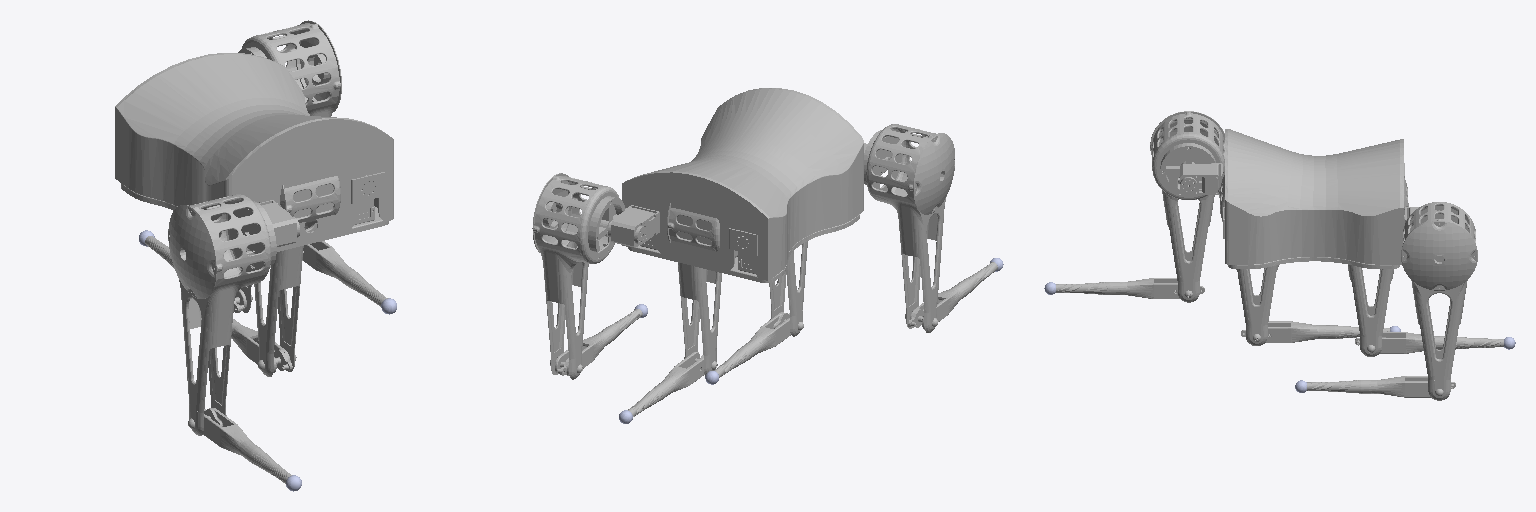
URDF robot description (Phantom):
<?xml version="1.0" encoding="utf-8"?>
<!-- This URDF was automatically created by SolidWorks to URDF Exporter! Originally created by [author] ([email redacted]) 
     Commit Version: 1.5.1-0-g916b5db  Build Version: 1.5.7152.31018
     For more information, please see http://wiki.ros.org/sw_urdf_exporter -->
<robot
  name="Phantom">
  <link
    name="base_link">
    <inertial>
      <origin
        xyz="0 0.024688 0"
        rpy="0 0 0" />
      <mass
        value="0.50654" />
      <inertia
        ixx="0.0017719"
        ixy="1.6105E-07"
        ixz="-8.064E-07"
        iyy="0.0025693"
        iyz="-4.4001E-05"
        izz="0.0011851" />
    </inertial>
    <visual>
      <origin
        xyz="0 0 0"
        rpy="0 0 0" />
      <geometry>
        <mesh
          filename="package://Phantom/meshes/base_link.STL" />
      </geometry>
      <material
        name="">
        <color
          rgba="0.75294 0.75294 0.75294 1" />
      </material>
    </visual>
    <collision>
      <origin
        xyz="0 0 0"
        rpy="0 0 0" />
      <geometry>
        <mesh
          filename="package://Phantom/meshes/base_link.STL" />
      </geometry>
    </collision>
  </link>
  <link
    name="FL_Motor_2">
    <inertial>
      <origin
        xyz="9.012E-07 0.025811 0.00021934"
        rpy="0 0 0" />
      <mass
        value="0.038306" />
      <inertia
        ixx="8.8892E-06"
        ixy="-8.9901E-11"
        ixz="2.9471E-11"
        iyy="5.0029E-06"
        iyz="-6.1827E-09"
        izz="7.6904E-06" />
    </inertial>
    <visual>
      <origin
        xyz="0 0 0"
        rpy="0 0 0" />
      <geometry>
        <mesh
          filename="package://Phantom/meshes/FL_Motor_2.STL" />
      </geometry>
      <material
        name="">
        <color
          rgba="0.75294 0.75294 0.75294 1" />
      </material>
    </visual>
    <collision>
      <origin
        xyz="0 0 0"
        rpy="0 0 0" />
      <geometry>
        <mesh
          filename="package://Phantom/meshes/FL_Motor_2.STL" />
      </geometry>
    </collision>
  </link>
  <joint
    name="FL_Motor_1"
    type="revolute">
    <origin
      xyz="0.06 -0.106 0.0396"
      rpy="0 -1.5708 0" />
    <parent
      link="base_link" />
    <child
      link="FL_Motor_2" />
    <axis
      xyz="0 1 0" />
    <limit
      lower="-1.57"
      upper="1.57"
      effort="1.6"
      velocity="6.55" />
  </joint>
  <link
    name="FL_Upper_Leg">
    <inertial>
      <origin
        xyz="0.0524807185071959 -0.0149043297355802 0.0456863302589959"
        rpy="0 0 0" />
      <mass
        value="0.109481468712912" />
      <inertia
        ixx="0.000298068457356141"
        ixy="4.60867940853905E-05"
        ixz="-3.85596458595883E-06"
        iyy="0.000125014667087998"
        iyz="7.78430032608335E-05"
        izz="0.000265806457751462" />
    </inertial>
    <visual>
      <origin
        xyz="0 0 0"
        rpy="0 0 0" />
      <geometry>
        <mesh
          filename="package://Phantom/meshes/FL_Upper_Leg.STL" />
      </geometry>
      <material
        name="">
        <color
          rgba="0.752941176470588 0.752941176470588 0.752941176470588 1" />
      </material>
    </visual>
    <collision>
      <origin
        xyz="0 0 0"
        rpy="0 0 0" />
      <geometry>
        <mesh
          filename="package://Phantom/meshes/FL_Upper_Leg.STL" />
      </geometry>
    </collision>
  </link>
  <joint
    name="FL_Motor_2"
    type="revolute">
    <origin
      xyz="0 0.0396 0"
      rpy="0.40064 -0.90551 -1.6929" />
    <parent
      link="FL_Motor_2" />
    <child
      link="FL_Upper_Leg" />
    <axis
      xyz="0.78674 0.24074 0.5684" />
    <limit
      lower="-1.57"
      upper="1.57"
      effort="1.6"
      velocity="6.55" />
  </joint>
  <link
    name="FL_Lower_Leg">
    <inertial>
      <origin
        xyz="0.0261394692100626 -0.0573467070566691 0.0104588260023856"
        rpy="0 0 0" />
      <mass
        value="0.0232960712336725" />
      <inertia
        ixx="1.52233611319829E-05"
        ixy="1.16167374959236E-06"
        ixz="-2.08623801817281E-07"
        iyy="1.7871148944761E-06"
        iyz="2.42971146104759E-06"
        izz="1.50217948778946E-05" />
    </inertial>
    <visual>
      <origin
        xyz="0 0 0"
        rpy="0 0 0" />
      <geometry>
        <mesh
          filename="package://Phantom/meshes/FL_Lower_Leg.STL" />
      </geometry>
      <material
        name="">
        <color
          rgba="0.752941176470588 0.752941176470588 0.752941176470588 1" />
      </material>
    </visual>
    <collision>
      <origin
        xyz="0 0 0"
        rpy="0 0 0" />
      <geometry>
        <mesh
          filename="package://Phantom/meshes/FL_Lower_Leg.STL" />
      </geometry>
    </collision>
  </link>
  <joint
    name="FL_Motor_3"
    type="revolute">
    <origin
      xyz="0.054695 -0.15377 0.082305"
      rpy="-1.778 -0.67517 0.31496" />
    <parent
      link="FL_Upper_Leg" />
    <child
      link="FL_Lower_Leg" />
    <axis
      xyz="0.9974 0.072007 0" />
    <limit
      lower="-1"
      upper="1"
      effort="1.6"
      velocity="6.55" />
  </joint>
  <link
    name="FL_Foot">
    <inertial>
      <origin
        xyz="-1.43877699615436E-08 0.00686484405727211 -2.77555756156289E-17"
        rpy="0 0 0" />
      <mass
        value="0.00129233386377228" />
      <inertia
        ixx="2.80098247181732E-08"
        ixy="-8.19106279544417E-14"
        ixz="-2.31601914376966E-23"
        iyy="3.46211587846662E-08"
        iyz="6.90000589927413E-24"
        izz="2.80108403065588E-08" />
    </inertial>
    <visual>
      <origin
        xyz="0 0 0"
        rpy="0 0 0" />
      <geometry>
        <mesh
          filename="package://Phantom/meshes/FL_Foot.STL" />
      </geometry>
      <material
        name="">
        <color
          rgba="0.792156862745098 0.819607843137255 0.933333333333333 1" />
      </material>
    </visual>
    <collision>
      <origin
        xyz="0 0 0"
        rpy="0 0 0" />
      <geometry>
        <mesh
          filename="package://Phantom/meshes/FL_Foot.STL" />
      </geometry>
    </collision>
  </link>
  <joint
    name="FL_Foot_Joint"
    type="fixed">
    <origin
      xyz="0.033045 -0.15002 0.026918"
      rpy="0.42172 1.1307 -2.6839" />
    <parent
      link="FL_Lower_Leg" />
    <child
      link="FL_Foot" />
    <axis
      xyz="0 0 0" />
  </joint>
  <link
    name="FR_Motor_2">
    <inertial>
      <origin
        xyz="9.01196952313166E-07 0.0258106475147315 0.000219339271449077"
        rpy="0 0 0" />
      <mass
        value="0.0383058924829272" />
      <inertia
        ixx="8.8892013763251E-06"
        ixy="-8.9900828311236E-11"
        ixz="2.94712337558651E-11"
        iyy="5.00287526627567E-06"
        iyz="-6.18267002550534E-09"
        izz="7.69036723458956E-06" />
    </inertial>
    <visual>
      <origin
        xyz="0 0 0"
        rpy="0 0 0" />
      <geometry>
        <mesh
          filename="package://Phantom/meshes/FR_Motor_2.STL" />
      </geometry>
      <material
        name="">
        <color
          rgba="0.752941176470588 0.752941176470588 0.752941176470588 1" />
      </material>
    </visual>
    <collision>
      <origin
        xyz="0 0 0"
        rpy="0 0 0" />
      <geometry>
        <mesh
          filename="package://Phantom/meshes/FR_Motor_2.STL" />
      </geometry>
    </collision>
  </link>
  <joint
    name="FR_Motor_1"
    type="revolute">
    <origin
      xyz="-0.06 -0.106 0.0396"
      rpy="3.1416 1.5708 0" />
    <parent
      link="base_link" />
    <child
      link="FR_Motor_2" />
    <axis
      xyz="0 1 0" />
    <limit
      lower="-1.57"
      upper="1.57"
      effort="1.6"
      velocity="6.55" />
  </joint>
  <link
    name="FR_Upper_Leg">
    <inertial>
      <origin
        xyz="0.052480718507193 -0.0149043297355734 0.0456863302590011"
        rpy="0 0 0" />
      <mass
        value="0.109481468712911" />
      <inertia
        ixx="0.000298068457356142"
        ixy="4.60867940853844E-05"
        ixz="-3.8559645859582E-06"
        iyy="0.000125014667088"
        iyz="7.78430032608387E-05"
        izz="0.000265806457751455" />
    </inertial>
    <visual>
      <origin
        xyz="0 0 0"
        rpy="0 0 0" />
      <geometry>
        <mesh
          filename="package://Phantom/meshes/FR_Upper_Leg.STL" />
      </geometry>
      <material
        name="">
        <color
          rgba="0.752941176470588 0.752941176470588 0.752941176470588 1" />
      </material>
    </visual>
    <collision>
      <origin
        xyz="0 0 0"
        rpy="0 0 0" />
      <geometry>
        <mesh
          filename="package://Phantom/meshes/FR_Upper_Leg.STL" />
      </geometry>
    </collision>
  </link>
  <joint
    name="FR_Motor_2"
    type="revolute">
    <origin
      xyz="0 0.0396 0"
      rpy="0.40064 -0.90551 1.4487" />
    <parent
      link="FR_Motor_2" />
    <child
      link="FR_Upper_Leg" />
    <axis
      xyz="0.78674 0.24074 0.5684" />
    <limit
      lower="-1.57"
      upper="1.57"
      effort="1.6"
      velocity="6.55" />
  </joint>
  <link
    name="FR_Lower_Leg">
    <inertial>
      <origin
        xyz="0.0261394692100617 -0.0573467070566894 0.0104588260024016"
        rpy="0 0 0" />
      <mass
        value="0.0232960712337112" />
      <inertia
        ixx="1.52233611319807E-05"
        ixy="1.1616737495922E-06"
        ixz="-2.08623801817473E-07"
        iyy="1.78711489447468E-06"
        iyz="2.42971146104814E-06"
        izz="1.50217948778951E-05" />
    </inertial>
    <visual>
      <origin
        xyz="0 0 0"
        rpy="0 0 0" />
      <geometry>
        <mesh
          filename="package://Phantom/meshes/FR_Lower_Leg.STL" />
      </geometry>
      <material
        name="">
        <color
          rgba="0.752941176470588 0.752941176470588 0.752941176470588 1" />
      </material>
    </visual>
    <collision>
      <origin
        xyz="0 0 0"
        rpy="0 0 0" />
      <geometry>
        <mesh
          filename="package://Phantom/meshes/FR_Lower_Leg.STL" />
      </geometry>
    </collision>
  </link>
  <joint
    name="FR_Motor_3"
    type="revolute">
    <origin
      xyz="0.054695 -0.15377 0.082305"
      rpy="1.3831 -0.53381 0.28062" />
    <parent
      link="FR_Upper_Leg" />
    <child
      link="FR_Lower_Leg" />
    <axis
      xyz="0.9974 0.072007 0" />
    <limit
      lower="-1"
      upper="1"
      effort="1.6"
      velocity="6.55" />
  </joint>
  <link
    name="FR_Foot">
    <inertial>
      <origin
        xyz="-1.43877682406979E-08 0.00686484405727189 -2.91433543964104E-15"
        rpy="0 0 0" />
      <mass
        value="0.00129233386377229" />
      <inertia
        ixx="2.80098247181733E-08"
        ixy="-8.1910627847285E-14"
        ixz="2.27474668452083E-24"
        iyy="3.46211587846663E-08"
        iyz="8.41167116402596E-24"
        izz="2.80108403065589E-08" />
    </inertial>
    <visual>
      <origin
        xyz="0 0 0"
        rpy="0 0 0" />
      <geometry>
        <mesh
          filename="package://Phantom/meshes/FR_Foot.STL" />
      </geometry>
      <material
        name="">
        <color
          rgba="0.792156862745098 0.819607843137255 0.933333333333333 1" />
      </material>
    </visual>
    <collision>
      <origin
        xyz="0 0 0"
        rpy="0 0 0" />
      <geometry>
        <mesh
          filename="package://Phantom/meshes/FR_Foot.STL" />
      </geometry>
    </collision>
  </link>
  <joint
    name="FR_Foot_Joint"
    type="fixed">
    <origin
      xyz="0.033045 -0.15002 0.026918"
      rpy="2.9657 0.081336 0.057634" />
    <parent
      link="FR_Lower_Leg" />
    <child
      link="FR_Foot" />
    <axis
      xyz="0 0 0" />
  </joint>
  <link
    name="BL_Motor_2">
    <inertial>
      <origin
        xyz="9.01196952167449E-07 0.0258106475147312 0.000219339271229357"
        rpy="0 0 0" />
      <mass
        value="0.0383058924829273" />
      <inertia
        ixx="8.88920137632515E-06"
        ixy="-8.99008282886945E-11"
        ixz="2.94712337531726E-11"
        iyy="5.00287526627569E-06"
        iyz="-6.1826700255098E-09"
        izz="7.69036723458962E-06" />
    </inertial>
    <visual>
      <origin
        xyz="0 0 0"
        rpy="0 0 0" />
      <geometry>
        <mesh
          filename="package://Phantom/meshes/BL_Motor_2.STL" />
      </geometry>
      <material
        name="">
        <color
          rgba="0.752941176470588 0.752941176470588 0.752941176470588 1" />
      </material>
    </visual>
    <collision>
      <origin
        xyz="0 0 0"
        rpy="0 0 0" />
      <geometry>
        <mesh
          filename="package://Phantom/meshes/BL_Motor_2.STL" />
      </geometry>
    </collision>
  </link>
  <joint
    name="BL_Motor_1"
    type="revolute">
    <origin
      xyz="0.06 0.106 0.0396"
      rpy="0 1.5708 0" />
    <parent
      link="base_link" />
    <child
      link="BL_Motor_2" />
    <axis
      xyz="0 1 0" />
    <limit
      lower="-1.57"
      upper="1.57"
      effort="1.6"
      velocity="6.55" />
  </joint>
  <link
    name="BL_Upper_Leg">
    <inertial>
      <origin
        xyz="0.0524807185070219 -0.014904329735632 0.0456863302588721"
        rpy="0 0 0" />
      <mass
        value="0.109481468712912" />
      <inertia
        ixx="0.000298068457356145"
        ixy="4.60867940853866E-05"
        ixz="-3.8559645859584E-06"
        iyy="0.000125014667088"
        iyz="7.78430032608382E-05"
        izz="0.000265806457751459" />
    </inertial>
    <visual>
      <origin
        xyz="0 0 0"
        rpy="0 0 0" />
      <geometry>
        <mesh
          filename="package://Phantom/meshes/BL_Upper_Leg.STL" />
      </geometry>
      <material
        name="">
        <color
          rgba="0.752941176470588 0.752941176470588 0.752941176470588 1" />
      </material>
    </visual>
    <collision>
      <origin
        xyz="0 0 0"
        rpy="0 0 0" />
      <geometry>
        <mesh
          filename="package://Phantom/meshes/BL_Upper_Leg.STL" />
      </geometry>
    </collision>
  </link>
  <joint
    name="BL_Motor_2"
    type="revolute">
    <origin
      xyz="0 0.0396 0"
      rpy="0.40064 -0.90551 1.4487" />
    <parent
      link="BL_Motor_2" />
    <child
      link="BL_Upper_Leg" />
    <axis
      xyz="0.78674 0.24074 0.5684" />
    <limit
      lower="-1.57"
      upper="1.57"
      effort="1.6"
      velocity="6.55" />
  </joint>
  <link
    name="BL_Lower_Leg">
    <inertial>
      <origin
        xyz="0.0261394692100616 -0.0573467070566771 0.010458826002389"
        rpy="0 0 0" />
      <mass
        value="0.0232960712336856" />
      <inertia
        ixx="1.52233611319842E-05"
        ixy="1.16167374959205E-06"
        ixz="-2.08623801817332E-07"
        iyy="1.78711489447804E-06"
        iyz="2.42971146104767E-06"
        izz="1.50217948778954E-05" />
    </inertial>
    <visual>
      <origin
        xyz="0 0 0"
        rpy="0 0 0" />
      <geometry>
        <mesh
          filename="package://Phantom/meshes/BL_Lower_Leg.STL" />
      </geometry>
      <material
        name="">
        <color
          rgba="0.752941176470588 0.752941176470588 0.752941176470588 1" />
      </material>
    </visual>
    <collision>
      <origin
        xyz="0 0 0"
        rpy="0 0 0" />
      <geometry>
        <mesh
          filename="package://Phantom/meshes/BL_Lower_Leg.STL" />
      </geometry>
    </collision>
  </link>
  <joint
    name="BL_Motor_3"
    type="revolute">
    <origin
      xyz="0.054695 -0.15377 0.082305"
      rpy="-1.778 -0.67517 0.31496" />
    <parent
      link="BL_Upper_Leg" />
    <child
      link="BL_Lower_Leg" />
    <axis
      xyz="0.9974 0.072007 0" />
    <limit
      lower="-1"
      upper="1"
      effort="1.6"
      velocity="6.55" />
  </joint>
  <link
    name="BL_Foot">
    <inertial>
      <origin
        xyz="-1.43877698921546E-08 0.00686484405727179 2.77555756156289E-17"
        rpy="0 0 0" />
      <mass
        value="0.00129233386377229" />
      <inertia
        ixx="2.80098247181732E-08"
        ixy="-8.19106278465532E-14"
        ixz="-4.13579763320867E-24"
        iyy="3.46211587846662E-08"
        iyz="-4.48891407388988E-24"
        izz="2.80108403065589E-08" />
    </inertial>
    <visual>
      <origin
        xyz="0 0 0"
        rpy="0 0 0" />
      <geometry>
        <mesh
          filename="package://Phantom/meshes/BL_Foot.STL" />
      </geometry>
      <material
        name="">
        <color
          rgba="0.792156862745098 0.819607843137255 0.933333333333333 1" />
      </material>
    </visual>
    <collision>
      <origin
        xyz="0 0 0"
        rpy="0 0 0" />
      <geometry>
        <mesh
          filename="package://Phantom/meshes/BL_Foot.STL" />
      </geometry>
    </collision>
  </link>
  <joint
    name="BL_Foot_Joint"
    type="fixed">
    <origin
      xyz="0.033045 -0.15002 0.026918"
      rpy="0.44233 1.1512 -2.6613" />
    <parent
      link="BL_Lower_Leg" />
    <child
      link="BL_Foot" />
    <axis
      xyz="0 1 0" />
  </joint>
  <link
    name="BR_Motor_2">
    <inertial>
      <origin
        xyz="9.01196953048689E-07 0.0258106475147303 0.000219339271668104"
        rpy="0 0 0" />
      <mass
        value="0.0383058924829252" />
      <inertia
        ixx="8.88920137632514E-06"
        ixy="-8.9900828336558E-11"
        ixz="2.94712337510042E-11"
        iyy="5.00287526627568E-06"
        iyz="-6.18267002550552E-09"
        izz="7.69036723458959E-06" />
    </inertial>
    <visual>
      <origin
        xyz="0 0 0"
        rpy="0 0 0" />
      <geometry>
        <mesh
          filename="package://Phantom/meshes/BR_Motor_2.STL" />
      </geometry>
      <material
        name="">
        <color
          rgba="0.752941176470588 0.752941176470588 0.752941176470588 1" />
      </material>
    </visual>
    <collision>
      <origin
        xyz="0 0 0"
        rpy="0 0 0" />
      <geometry>
        <mesh
          filename="package://Phantom/meshes/BR_Motor_2.STL" />
      </geometry>
    </collision>
  </link>
  <joint
    name="BR_Motor_1"
    type="revolute">
    <origin
      xyz="-0.06 0.106 0.0396"
      rpy="3.1416 -1.5708 0" />
    <parent
      link="base_link" />
    <child
      link="BR_Motor_2" />
    <axis
      xyz="0 1 0" />
    <limit
      lower="-1.57"
      upper="1.57"
      effort="1.6"
      velocity="6.55" />
  </joint>
  <link
    name="BR_Upper_Leg">
    <inertial>
      <origin
        xyz="0.0524807185073673 -0.0149043297355264 0.0456863302591222"
        rpy="0 0 0" />
      <mass
        value="0.109481468712911" />
      <inertia
        ixx="0.00029806845735614"
        ixy="4.60867940853841E-05"
        ixz="-3.85596458595776E-06"
        iyy="0.000125014667087999"
        iyz="7.78430032608385E-05"
        izz="0.000265806457751453" />
    </inertial>
    <visual>
      <origin
        xyz="0 0 0"
        rpy="0 0 0" />
      <geometry>
        <mesh
          filename="package://Phantom/meshes/BR_Upper_Leg.STL" />
      </geometry>
      <material
        name="">
        <color
          rgba="0.752941176470588 0.752941176470588 0.752941176470588 1" />
      </material>
    </visual>
    <collision>
      <origin
        xyz="0 0 0"
        rpy="0 0 0" />
      <geometry>
        <mesh
          filename="package://Phantom/meshes/BR_Upper_Leg.STL" />
      </geometry>
    </collision>
  </link>
  <joint
    name="BR_Motor_2"
    type="revolute">
    <origin
      xyz="0 0.0396 0"
      rpy="0.40064 -0.90551 -1.6929" />
    <parent
      link="BR_Motor_2" />
    <child
      link="BR_Upper_Leg" />
    <axis
      xyz="0.78674 0.24074 0.5684" />
    <limit
      lower="-1.57"
      upper="1.57"
      effort="1.6"
      velocity="6.55" />
  </joint>
  <link
    name="BR_Lower_Leg">
    <inertial>
      <origin
        xyz="0.0261394692100596 -0.0573467070566696 0.0104588260023861"
        rpy="0 0 0" />
      <mass
        value="0.0232960712336743" />
      <inertia
        ixx="1.52233611319828E-05"
        ixy="1.1616737495921E-06"
        ixz="-2.08623801817723E-07"
        iyy="1.7871148944754E-06"
        iyz="2.42971146104731E-06"
        izz="1.50217948778944E-05" />
    </inertial>
    <visual>
      <origin
        xyz="0 0 0"
        rpy="0 0 0" />
      <geometry>
        <mesh
          filename="package://Phantom/meshes/BR_Lower_Leg.STL" />
      </geometry>
      <material
        name="">
        <color
          rgba="0.752941176470588 0.752941176470588 0.752941176470588 1" />
      </material>
    </visual>
    <collision>
      <origin
        xyz="0 0 0"
        rpy="0 0 0" />
      <geometry>
        <mesh
          filename="package://Phantom/meshes/BR_Lower_Leg.STL" />
      </geometry>
    </collision>
  </link>
  <joint
    name="BR_Motor_3"
    type="revolute">
    <origin
      xyz="0.054695 -0.15377 0.082305"
      rpy="1.3831 -0.53381 0.28062" />
    <parent
      link="BR_Upper_Leg" />
    <child
      link="BR_Lower_Leg" />
    <axis
      xyz="0.9974 0.072007 0" />
    <limit
      lower="-1"
      upper="1"
      effort="1.6"
      velocity="6.55" />
  </joint>
  <link
    name="BR_Foot">
    <inertial>
      <origin
        xyz="-1.43877705721662E-08 0.00686484405727178 4.44089209850063E-16"
        rpy="0 0 0" />
      <mass
        value="0.00129233386377228" />
      <inertia
        ixx="2.80098247181731E-08"
        ixy="-8.19106279262494E-14"
        ixz="-2.89444080637953E-24"
        iyy="3.46211587846661E-08"
        iyz="6.23490702340783E-23"
        izz="2.80108403065587E-08" />
    </inertial>
    <visual>
      <origin
        xyz="0 0 0"
        rpy="0 0 0" />
      <geometry>
        <mesh
          filename="package://Phantom/meshes/BR_Foot.STL" />
      </geometry>
      <material
        name="">
        <color
          rgba="0.792156862745098 0.819607843137255 0.933333333333333 1" />
      </material>
    </visual>
    <collision>
      <origin
        xyz="0 0 0"
        rpy="0 0 0" />
      <geometry>
        <mesh
          filename="package://Phantom/meshes/BR_Foot.STL" />
      </geometry>
    </collision>
  </link>
  <joint
    name="BR_Foot_Joint"
    type="fixed">
    <origin
      xyz="0.033045 -0.15002 0.026918"
      rpy="0.8796 -1.3425 2.347" />
    <parent
      link="BR_Lower_Leg" />
    <child
      link="BR_Foot" />
    <axis
      xyz="0 1 0" />
  </joint>
</robot>

--- Facts derived from the render (not from the file) ---
Views: 3 orthographic renders of the robot side by side, from view 1: azimuth 30°, elevation 25°; view 2: azimuth 150°, elevation 25°; view 3: azimuth 270°, elevation 25°.
Model Phantom with 17 links and 16 joints (12 revolute, 4 fixed), rooted at base_link, posed every joint at zero.
Links seen in each view (by area): view 1: base_link, FR_Upper_Leg, FL_Upper_Leg, BL_Upper_Leg, FR_Lower_Leg, BL_Lower_Leg, FL_Lower_Leg, FR_Motor_2, FL_Motor_2, BR_Lower_Leg; view 2: base_link, FR_Upper_Leg, BL_Upper_Leg, BR_Upper_Leg, FL_Upper_Leg, BL_Motor_2, FL_Lower_Leg, BR_Lower_Leg, FR_Lower_Leg, BL_Lower_Leg, BR_Motor_2; view 3: base_link, BL_Upper_Leg, FR_Upper_Leg, BR_Upper_Leg, FL_Upper_Leg, BL_Lower_Leg, FR_Lower_Leg, FL_Lower_Leg, BR_Lower_Leg, FR_Motor_2.
Link boxes in pixels (x1,y1,x2,y2): base_link: (115,53,393,254); FR_Upper_Leg: (168,194,276,435); FL_Upper_Leg: (253,176,340,376); BL_Upper_Leg: (238,20,341,116); FR_Lower_Leg: (203,408,291,483); BL_Lower_Leg: (302,241,387,306); FL_Lower_Leg: (231,319,292,372); FR_Motor_2: (259,200,299,246); FL_Motor_2: (351,172,384,203); BR_Lower_Leg: (145,236,246,312); base_link: (622,88,863,282); FR_Upper_Leg: (864,124,954,332); BL_Upper_Leg: (532,173,625,379); BR_Upper_Leg: (667,203,737,375); FL_Upper_Leg: (769,241,807,336); BL_Motor_2: (608,205,659,247); FL_Lower_Leg: (714,312,790,377); BR_Lower_Leg: (628,352,704,416); FR_Lower_Leg: (908,262,997,329); BL_Lower_Leg: (555,309,642,375); BR_Motor_2: (729,228,757,255); base_link: (1225,129,1403,268); BL_Upper_Leg: (1401,202,1477,400); FR_Upper_Leg: (1150,111,1224,302); BR_Upper_Leg: (1348,178,1408,356); FL_Upper_Leg: (1218,171,1278,345); BL_Lower_Leg: (1307,376,1455,397); FR_Lower_Leg: (1056,278,1204,298); FL_Lower_Leg: (1241,321,1389,342); BR_Lower_Leg: (1355,332,1503,353); FR_Motor_2: (1180,163,1222,194).
Bounding box of the posed robot: 0.3216 × 0.547 × 0.2683 m (x, y, z).
Meshes: 17 distinct files referenced, 17 mesh visuals loaded (17 binary STL).